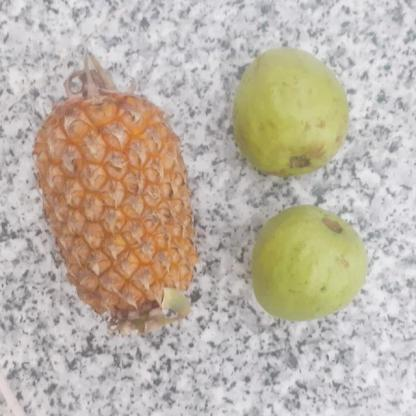guava: (232, 48, 352, 172), (252, 208, 373, 321)
pineapple: (38, 91, 197, 324)
